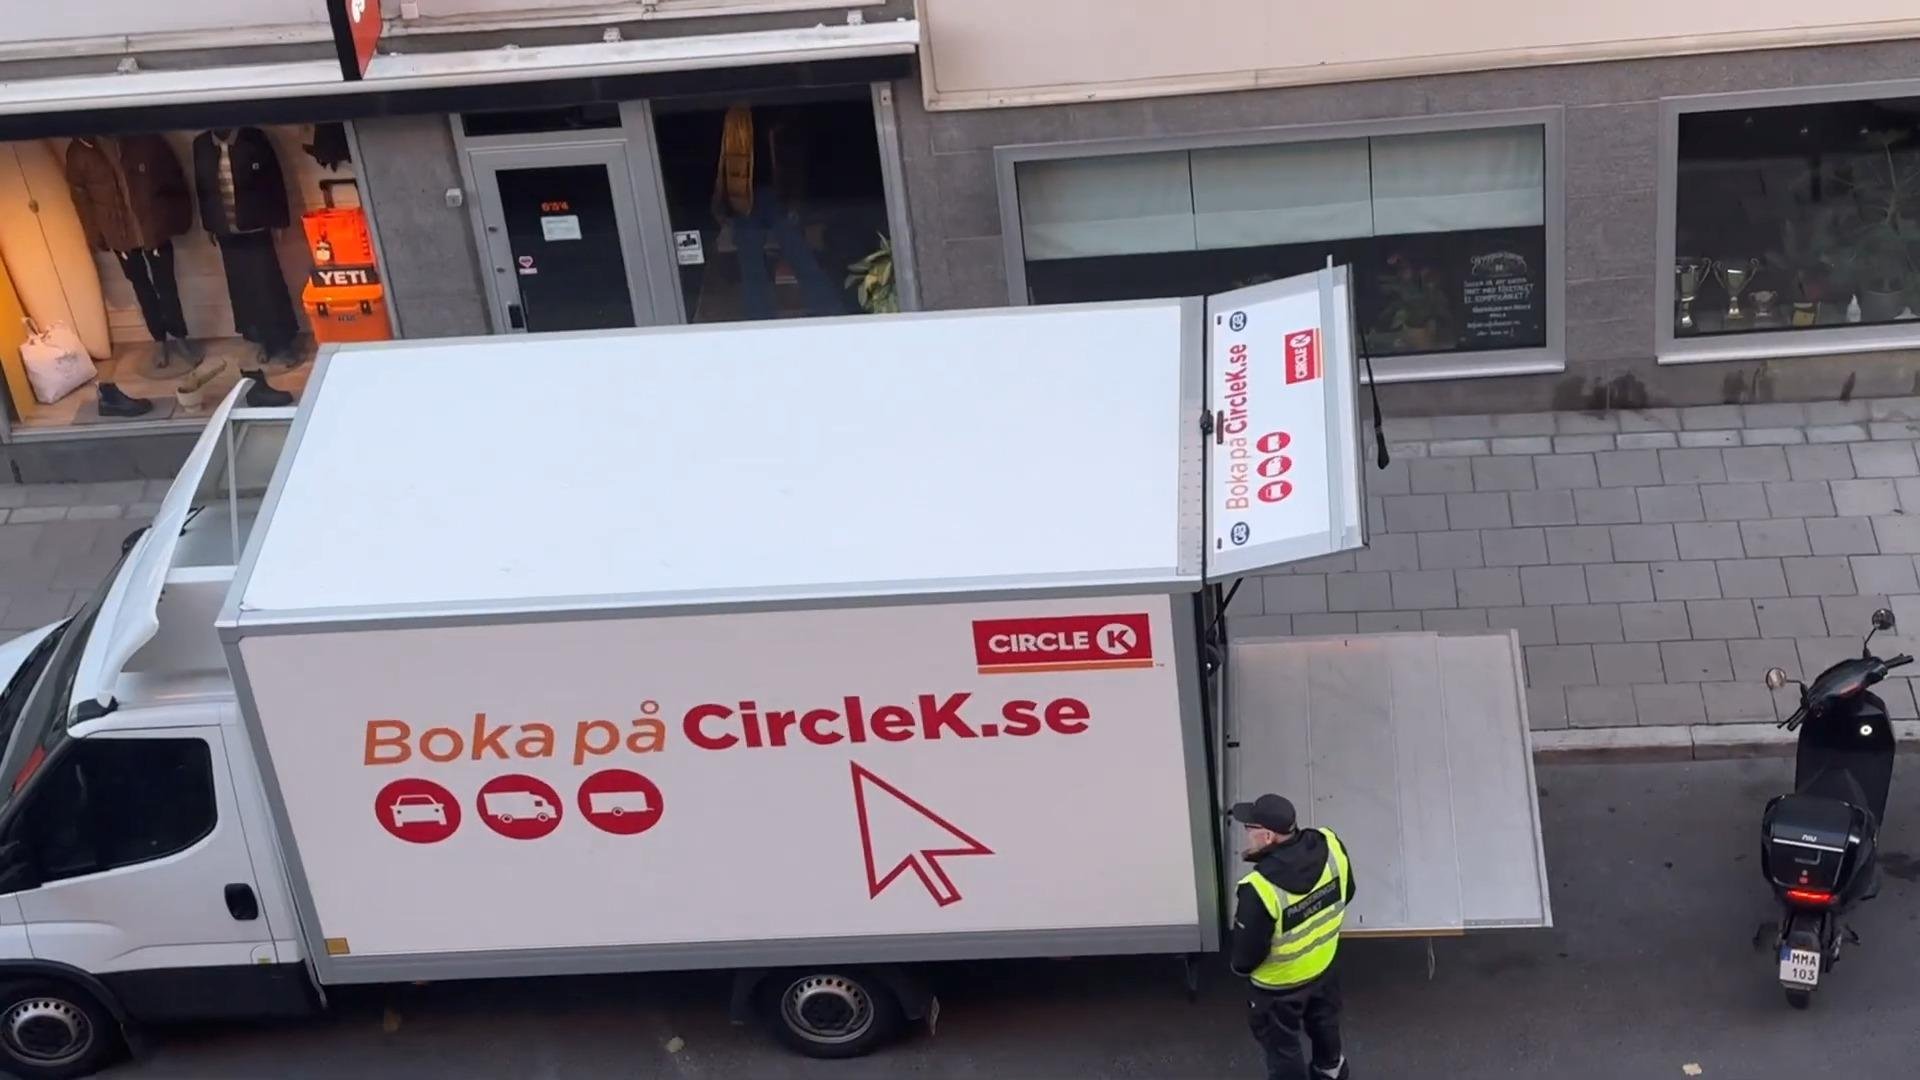parking-attendant: (1230, 794, 1353, 1079)
